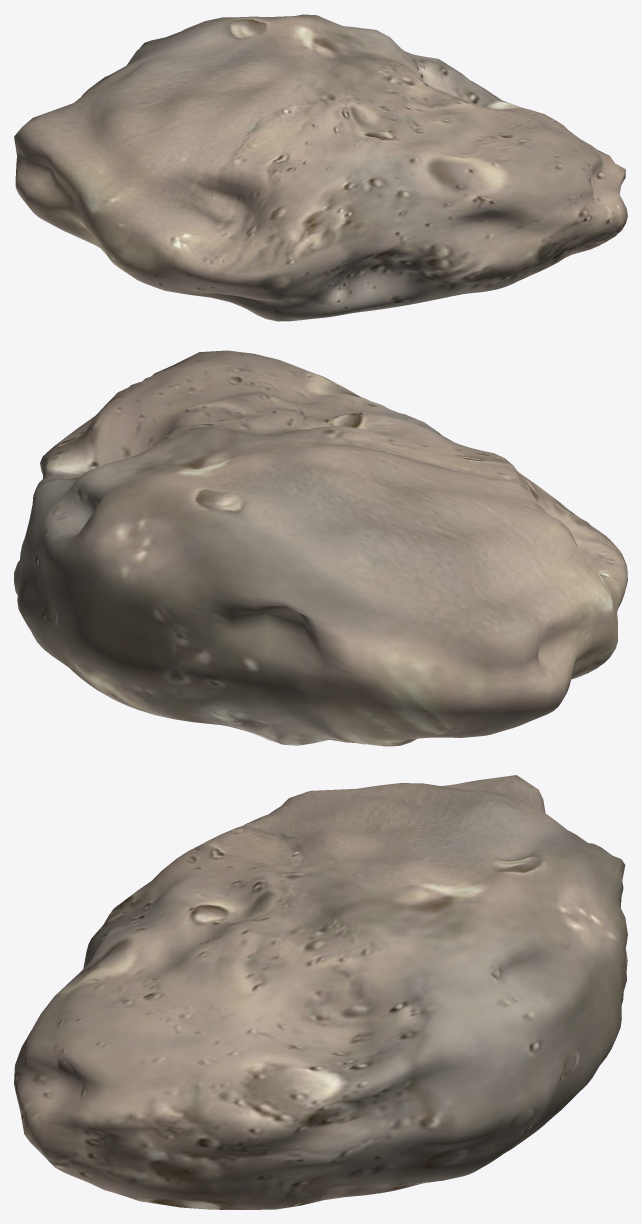
Rendered from amalthea.glb.
3 views of the same model, one above another, from view 1: azimuth 30°, elevation 25°; view 2: azimuth 150°, elevation 25°; view 3: azimuth 270°, elevation 25° (orthographic). The views are drawn at different scales.
Visible parts, largest first — view 1: amalthea; view 2: amalthea; view 3: amalthea.
Boxes of the visible parts, x1=… form: amalthea: x1=14, y1=14, x2=627, y2=321; amalthea: x1=14, y1=350, x2=627, y2=746; amalthea: x1=14, y1=775, x2=627, y2=1209.
Size of the model in its own units: 39.57 by 17.37 by 33.64.
1 material, 1 textured.
